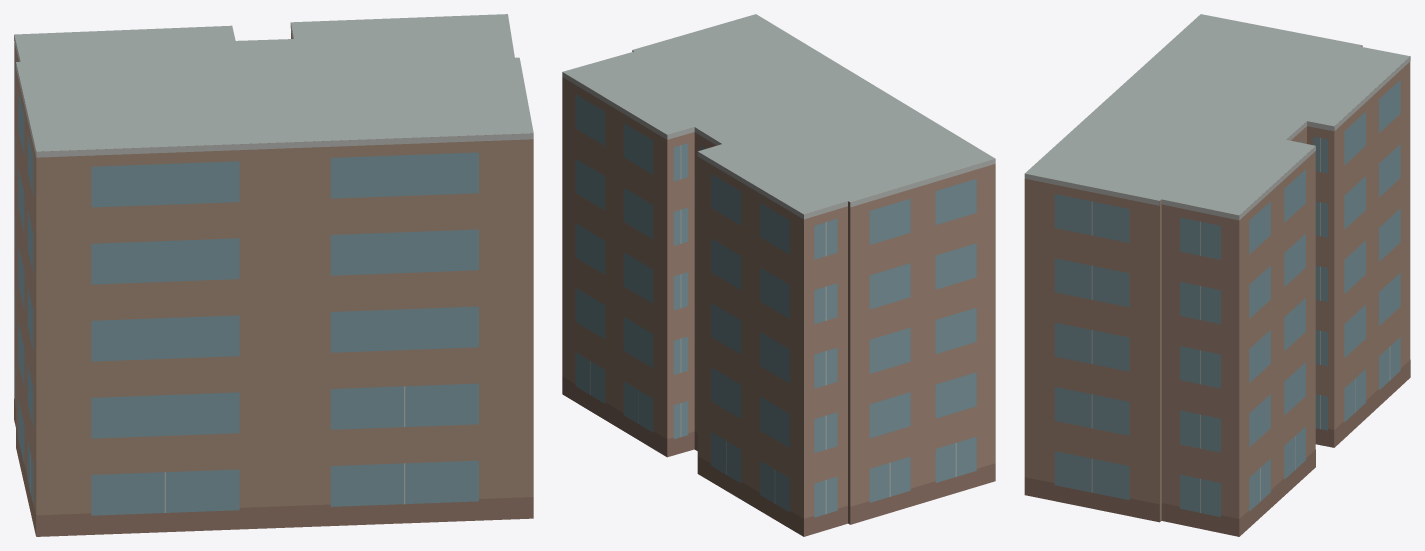
The model's file is survey-upis-32658797.glb.
3 renders of one model, left to right at view 1: azimuth 30°, elevation 25°; view 2: azimuth 150°, elevation 25°; view 3: azimuth 270°, elevation 25°, orthographic. The views are drawn at different scales.
Parts seen in each view (by area): view 1: survey-upis-32658797.tmp; view 2: survey-upis-32658797.tmp; view 3: survey-upis-32658797.tmp.
Part boxes in pixels (box(x1,y1,x2,y2)): survey-upis-32658797.tmp: box(14, 14, 533, 536); survey-upis-32658797.tmp: box(562, 14, 995, 536); survey-upis-32658797.tmp: box(1024, 14, 1410, 536).
Bounding box in the file's own units: 21.11 × 15.7 × 17.09.
